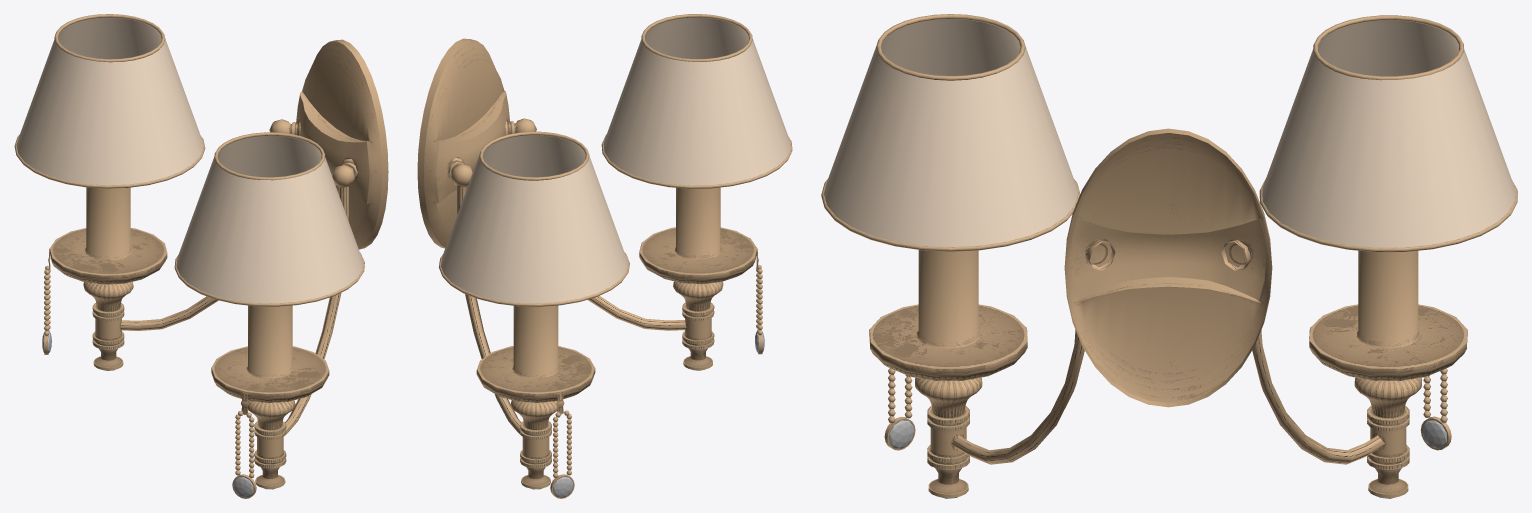
Rendered from lamps.glb.
3 renders of one model, left to right at view 1: azimuth 30°, elevation 25°; view 2: azimuth 150°, elevation 25°; view 3: azimuth 270°, elevation 25°, orthographic. The views are drawn at different scales.
Visible parts, largest first — view 1: BTQ_Classic_wallLight01_000; view 2: BTQ_Classic_wallLight01_000; view 3: BTQ_Classic_wallLight01_000.
Boxes of the visible parts, x1,y1,x2,y2 form: BTQ_Classic_wallLight01_000: [14, 14, 388, 498]; BTQ_Classic_wallLight01_000: [417, 14, 792, 498]; BTQ_Classic_wallLight01_000: [821, 14, 1517, 498].
Size of the model in its own units: 1.1 by 1.49 by 2.
Materials: 1 (1 with a texture image).
